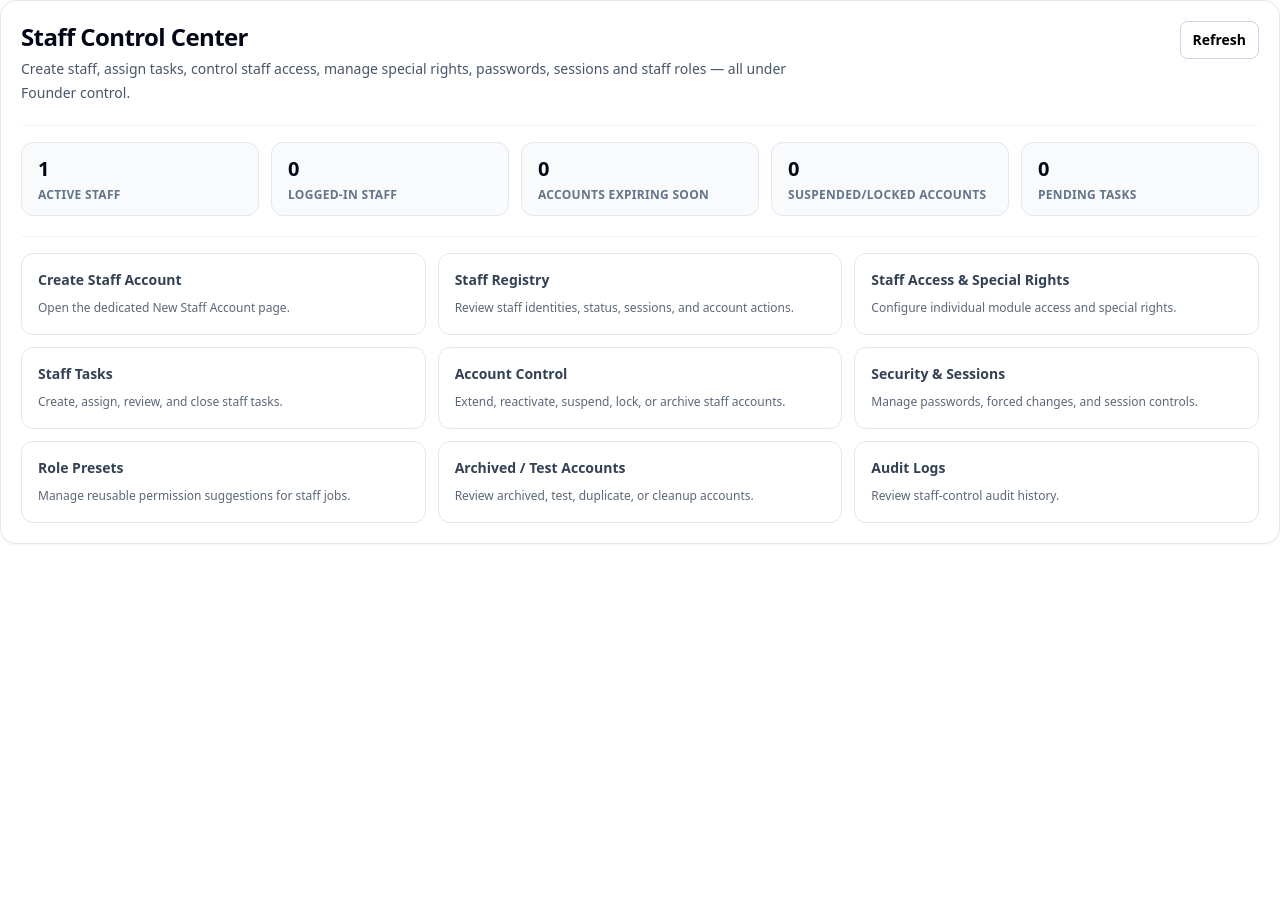
TeamManagement role presets › renames Roles & Workflow to Role Presets and explains presets are suggestions only
What coordinates should you click on to do the following:
click the button "Role Presets"
I would click on:
 (81, 468)
Its box is [21,441,426,523].
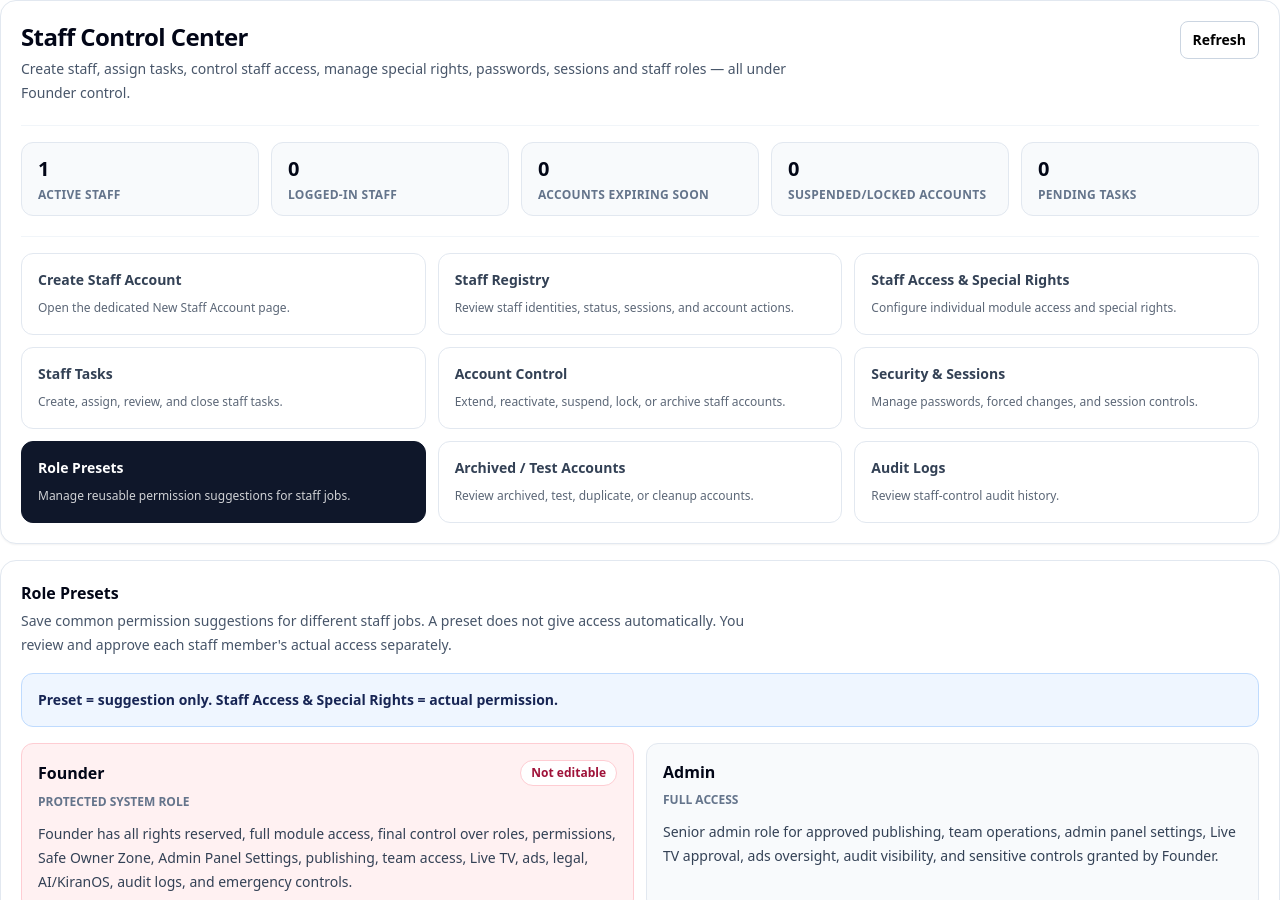
Expected: the text "Preset = suggestion only. Staff Access & Special Rights = actual permission." is shown, [21,673,1259,727]
Expected: the text "Founder" is shown, [38,761,105,785]
Expected: the text "Protected system role" is shown, [38,793,189,810]
